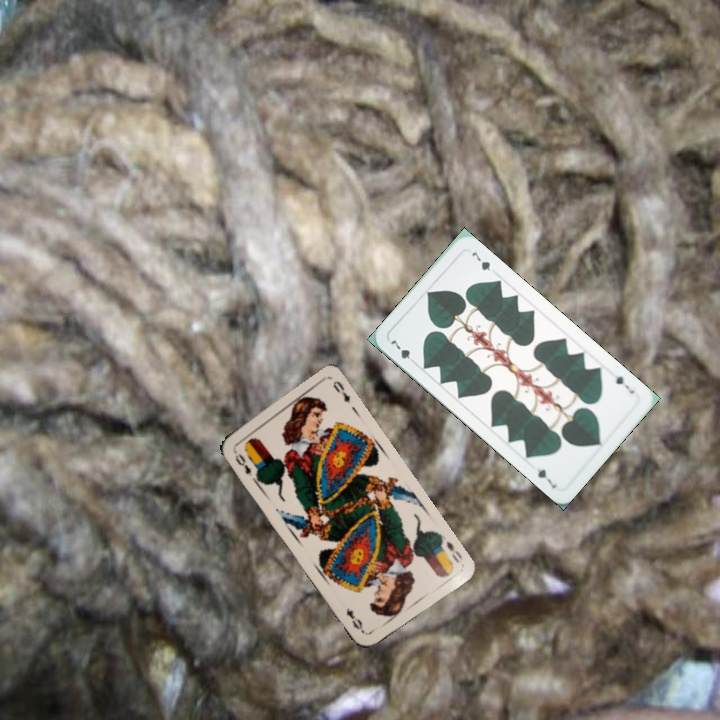EO: (230, 446, 255, 479), (442, 537, 466, 565)
G7: (386, 336, 419, 367), (612, 371, 637, 396)
